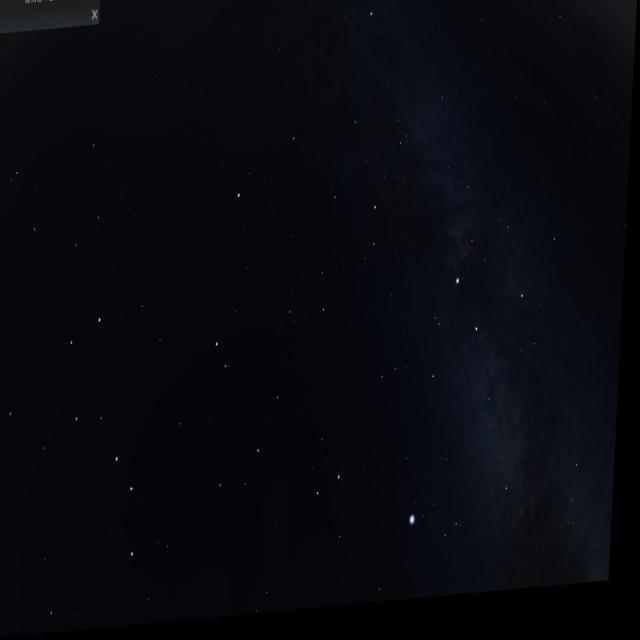cygnus: (412, 269, 538, 509)
lyra: (412, 491, 482, 568)
ursa_major: (56, 307, 162, 581)
